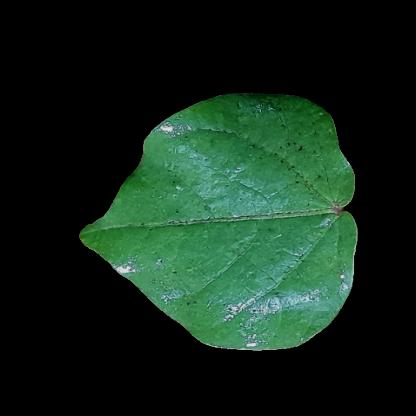healthy: (152, 150, 340, 296), (192, 298, 334, 341), (194, 103, 316, 149), (116, 201, 150, 275)
